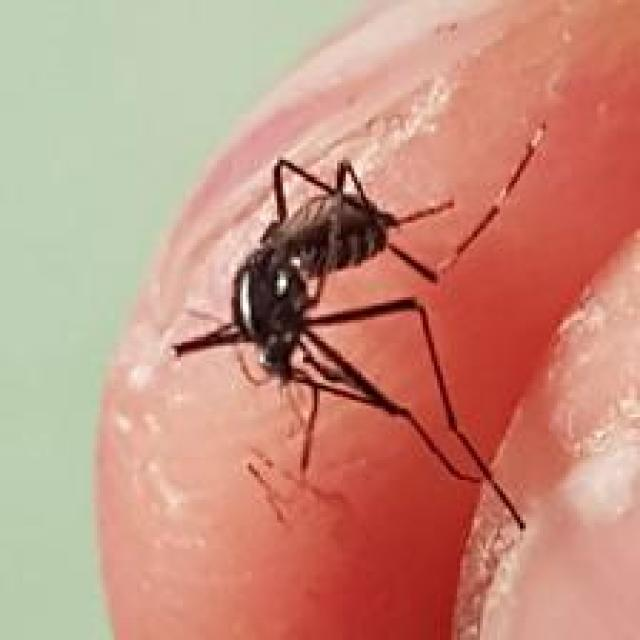Aedes albopictus: (169, 150, 534, 533)
